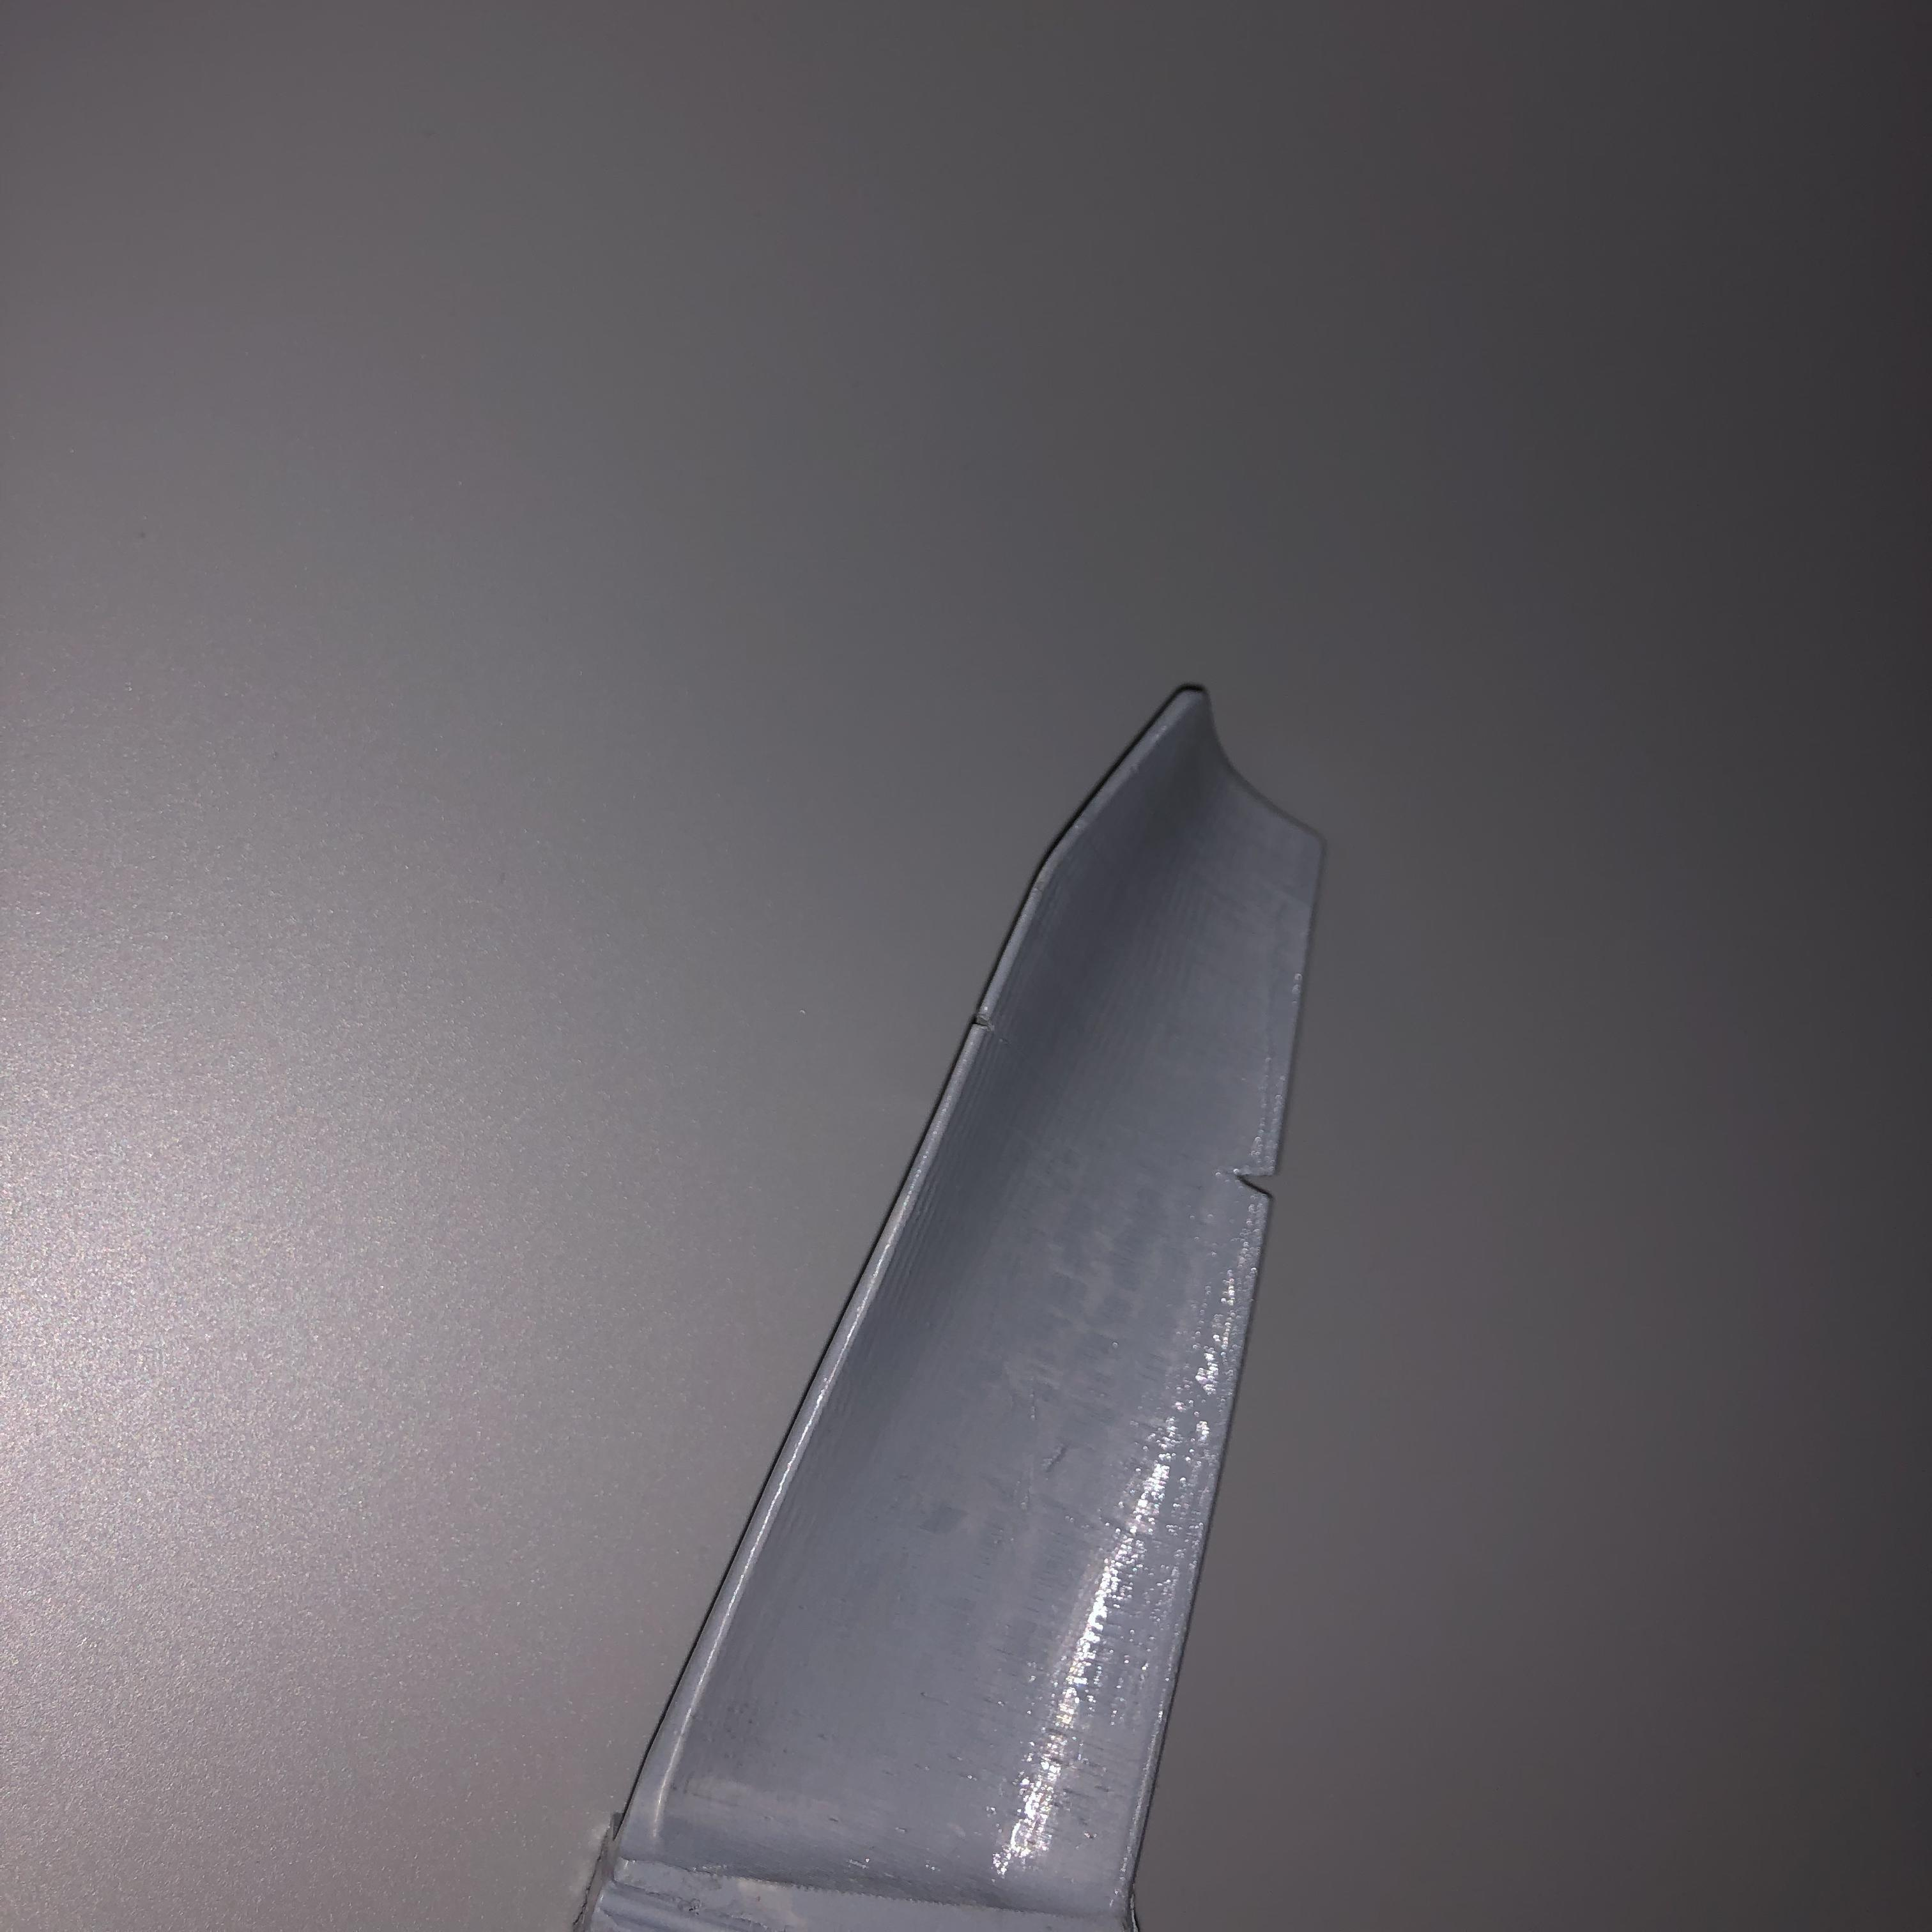groove: (1223, 1164, 1279, 1217), (971, 1000, 1005, 1033)
